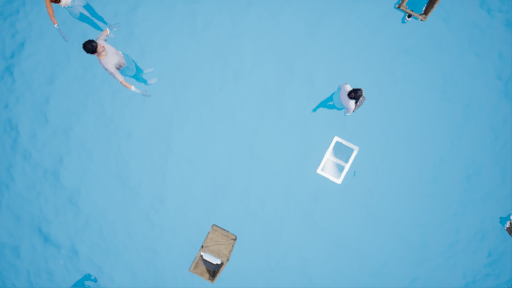person: (85, 32, 161, 96), (309, 78, 368, 126)
